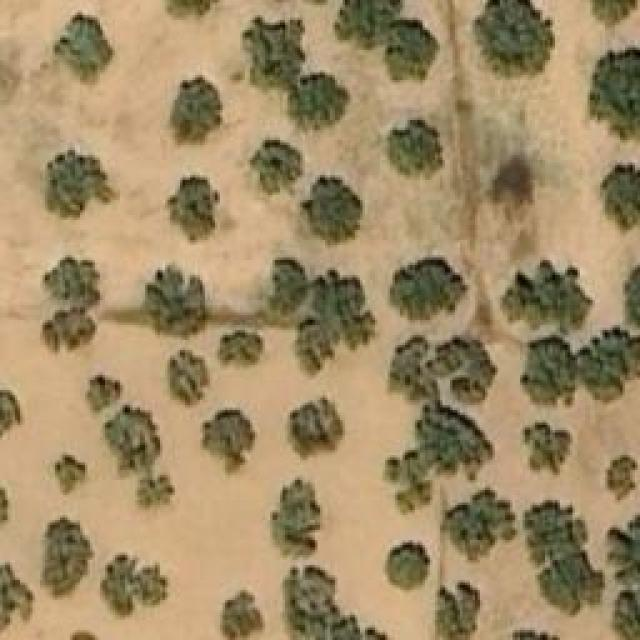Tree: (385, 330, 497, 405), (298, 278, 373, 368), (473, 0, 556, 80), (503, 260, 593, 333), (42, 255, 100, 353), (418, 408, 493, 483), (447, 485, 515, 565), (45, 150, 118, 218), (243, 10, 309, 85), (37, 515, 95, 600), (98, 552, 168, 620), (390, 258, 465, 321), (590, 48, 640, 141), (54, 13, 115, 88), (270, 478, 320, 561), (285, 395, 348, 460), (303, 175, 363, 243), (150, 265, 208, 335), (105, 402, 162, 472), (380, 18, 440, 83), (580, 333, 640, 398), (288, 73, 350, 135), (168, 175, 221, 243), (203, 407, 256, 475), (285, 567, 332, 640), (170, 77, 220, 145), (335, 0, 403, 49), (388, 120, 443, 180), (528, 505, 581, 565), (543, 550, 596, 608), (248, 140, 303, 195), (522, 420, 570, 480), (0, 555, 35, 635), (605, 508, 640, 583), (438, 582, 483, 640), (528, 347, 573, 405), (382, 543, 430, 593), (168, 350, 211, 405), (602, 165, 640, 225), (268, 260, 311, 313), (223, 590, 263, 640), (575, 0, 640, 25), (218, 330, 258, 368), (605, 455, 638, 500), (133, 473, 175, 508), (615, 582, 640, 640), (0, 382, 22, 445), (165, 0, 216, 25), (330, 617, 385, 640), (55, 455, 88, 493), (88, 375, 121, 413), (622, 268, 640, 333)
